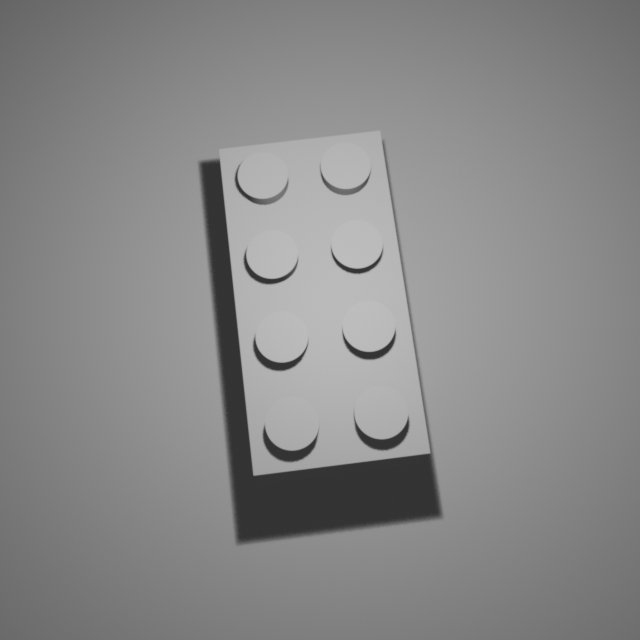lego_2x4: (217, 123, 433, 483)
